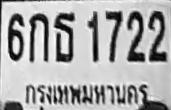1: (87, 12, 99, 62)
2: (148, 10, 166, 61), (126, 10, 144, 61)
6: (7, 13, 24, 61)
7: (105, 10, 122, 62)
A01: (28, 12, 48, 62)
A24: (53, 12, 75, 62)
BKK: (21, 79, 149, 110)
